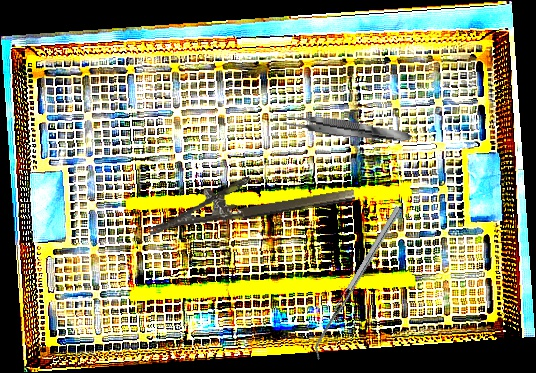Needle Holder: (143, 160, 356, 236)
Spatula Surgical: (307, 205, 408, 361)
Tissue Forceps: (282, 111, 413, 147)
